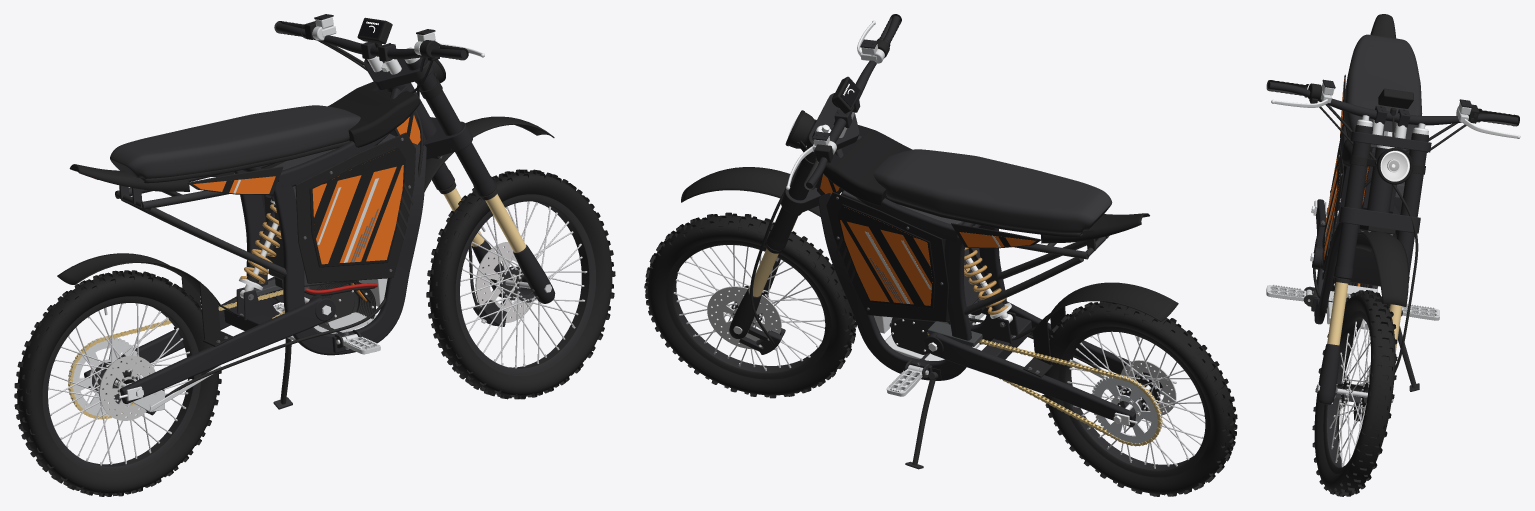
File: surron-light-bee-x-orange.glb
3 renders of one model, left to right at view 1: azimuth 30°, elevation 25°; view 2: azimuth 150°, elevation 25°; view 3: azimuth 270°, elevation 25°, orthographic. The views are drawn at different scales.
Visible parts, largest first — view 1: Tire_R, Tire_F, Seat, Frame_Main, Swingarm_Arms, Graphics_Main, SidePanel_R, Rim_F, Rim_R, Spokes_F, Spokes_R, Graphics_Black (+25 smaller); view 2: Seat, Tire_F, Tire_R, Frame_Main, Swingarm_Arms, Graphics_Main, Rim_F, SidePanel_L, Rim_R, TankCover, Spokes_R, Swingarm_Hugger (+23 smaller); view 3: Tire_F, Seat, FrontFender, Fork_Upper_R, Spokes_F, Rim_F, Frame_Main, Handlebar, Fork_Upper_L, Battery_Pack, TripleClamp_Lower, Fork_Lug_R (+20 smaller).
Part boxes in pixels (box(x1,y1,x2,y2)): Tire_R: box(14, 270, 221, 496); Tire_F: box(426, 169, 615, 399); Seat: box(110, 105, 360, 178); Frame_Main: box(234, 85, 426, 355); Swingarm_Arms: box(84, 277, 335, 403); Graphics_Main: box(193, 115, 420, 264); SidePanel_R: box(295, 132, 415, 283); Rim_F: box(455, 194, 595, 375); Rim_R: box(42, 296, 201, 474); Spokes_F: box(460, 202, 586, 367); Spokes_R: box(48, 303, 190, 464); Graphics_Black: box(222, 113, 413, 263); Seat: box(873, 149, 1112, 233); Tire_F: box(644, 212, 856, 398); Tire_R: box(1042, 301, 1237, 496); Frame_Main: box(817, 135, 1006, 380); Swingarm_Arms: box(924, 291, 1167, 427); Graphics_Main: box(820, 174, 1035, 305); Rim_F: box(665, 240, 831, 379); SidePanel_L: box(826, 192, 948, 321); Rim_R: box(1058, 326, 1210, 477); TankCover: box(823, 125, 911, 205); Spokes_R: box(1068, 331, 1205, 468); Swingarm_Hugger: box(1031, 282, 1178, 335); Tire_F: box(1312, 290, 1397, 496); Seat: box(1344, 34, 1422, 150); FrontFender: box(1356, 230, 1408, 307); Fork_Upper_R: box(1334, 125, 1372, 279); Spokes_F: box(1329, 320, 1370, 465); Rim_F: box(1323, 311, 1369, 473); Frame_Main: box(1311, 126, 1400, 324); Handlebar: box(1267, 81, 1518, 125); Fork_Upper_L: box(1397, 133, 1428, 280); Battery_Pack: box(1333, 167, 1404, 286); TripleClamp_Lower: box(1339, 206, 1420, 233); Fork_Lug_R: box(1317, 343, 1340, 404).
Bounding box in the file's own units: 1.88 × 1.19 × 0.7598.
